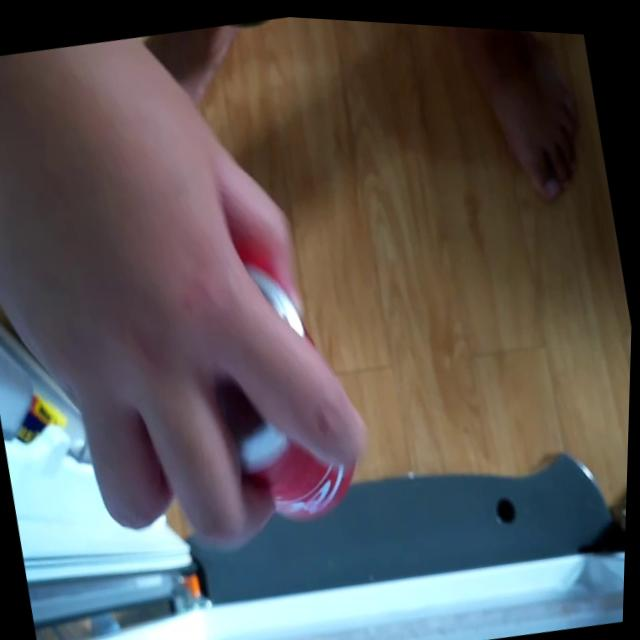coke: (175, 249, 373, 533)
